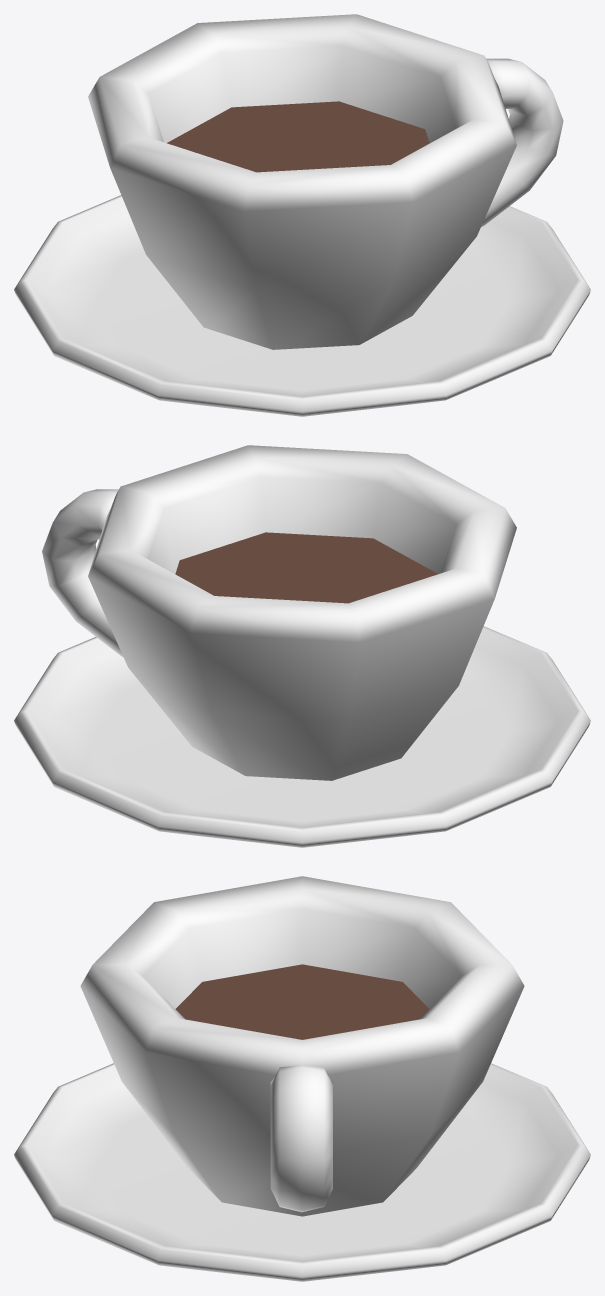
The model's file is prop_090.fbx.
The picture shows the model from 3 angles, top to bottom: view 1: azimuth 30°, elevation 25°; view 2: azimuth 150°, elevation 25°; view 3: azimuth 270°, elevation 25°; orthographic projection.
Visible parts, largest first — view 1: prop_090; view 2: prop_090; view 3: prop_090.
Boxes of the visible parts, left/top/right/bottom form: prop_090: left=14, top=14, right=590, bottom=416; prop_090: left=14, top=445, right=590, bottom=847; prop_090: left=14, top=876, right=590, bottom=1281.
Bounding box in the file's own units: 24.13 × 23.91 × 10.59.
